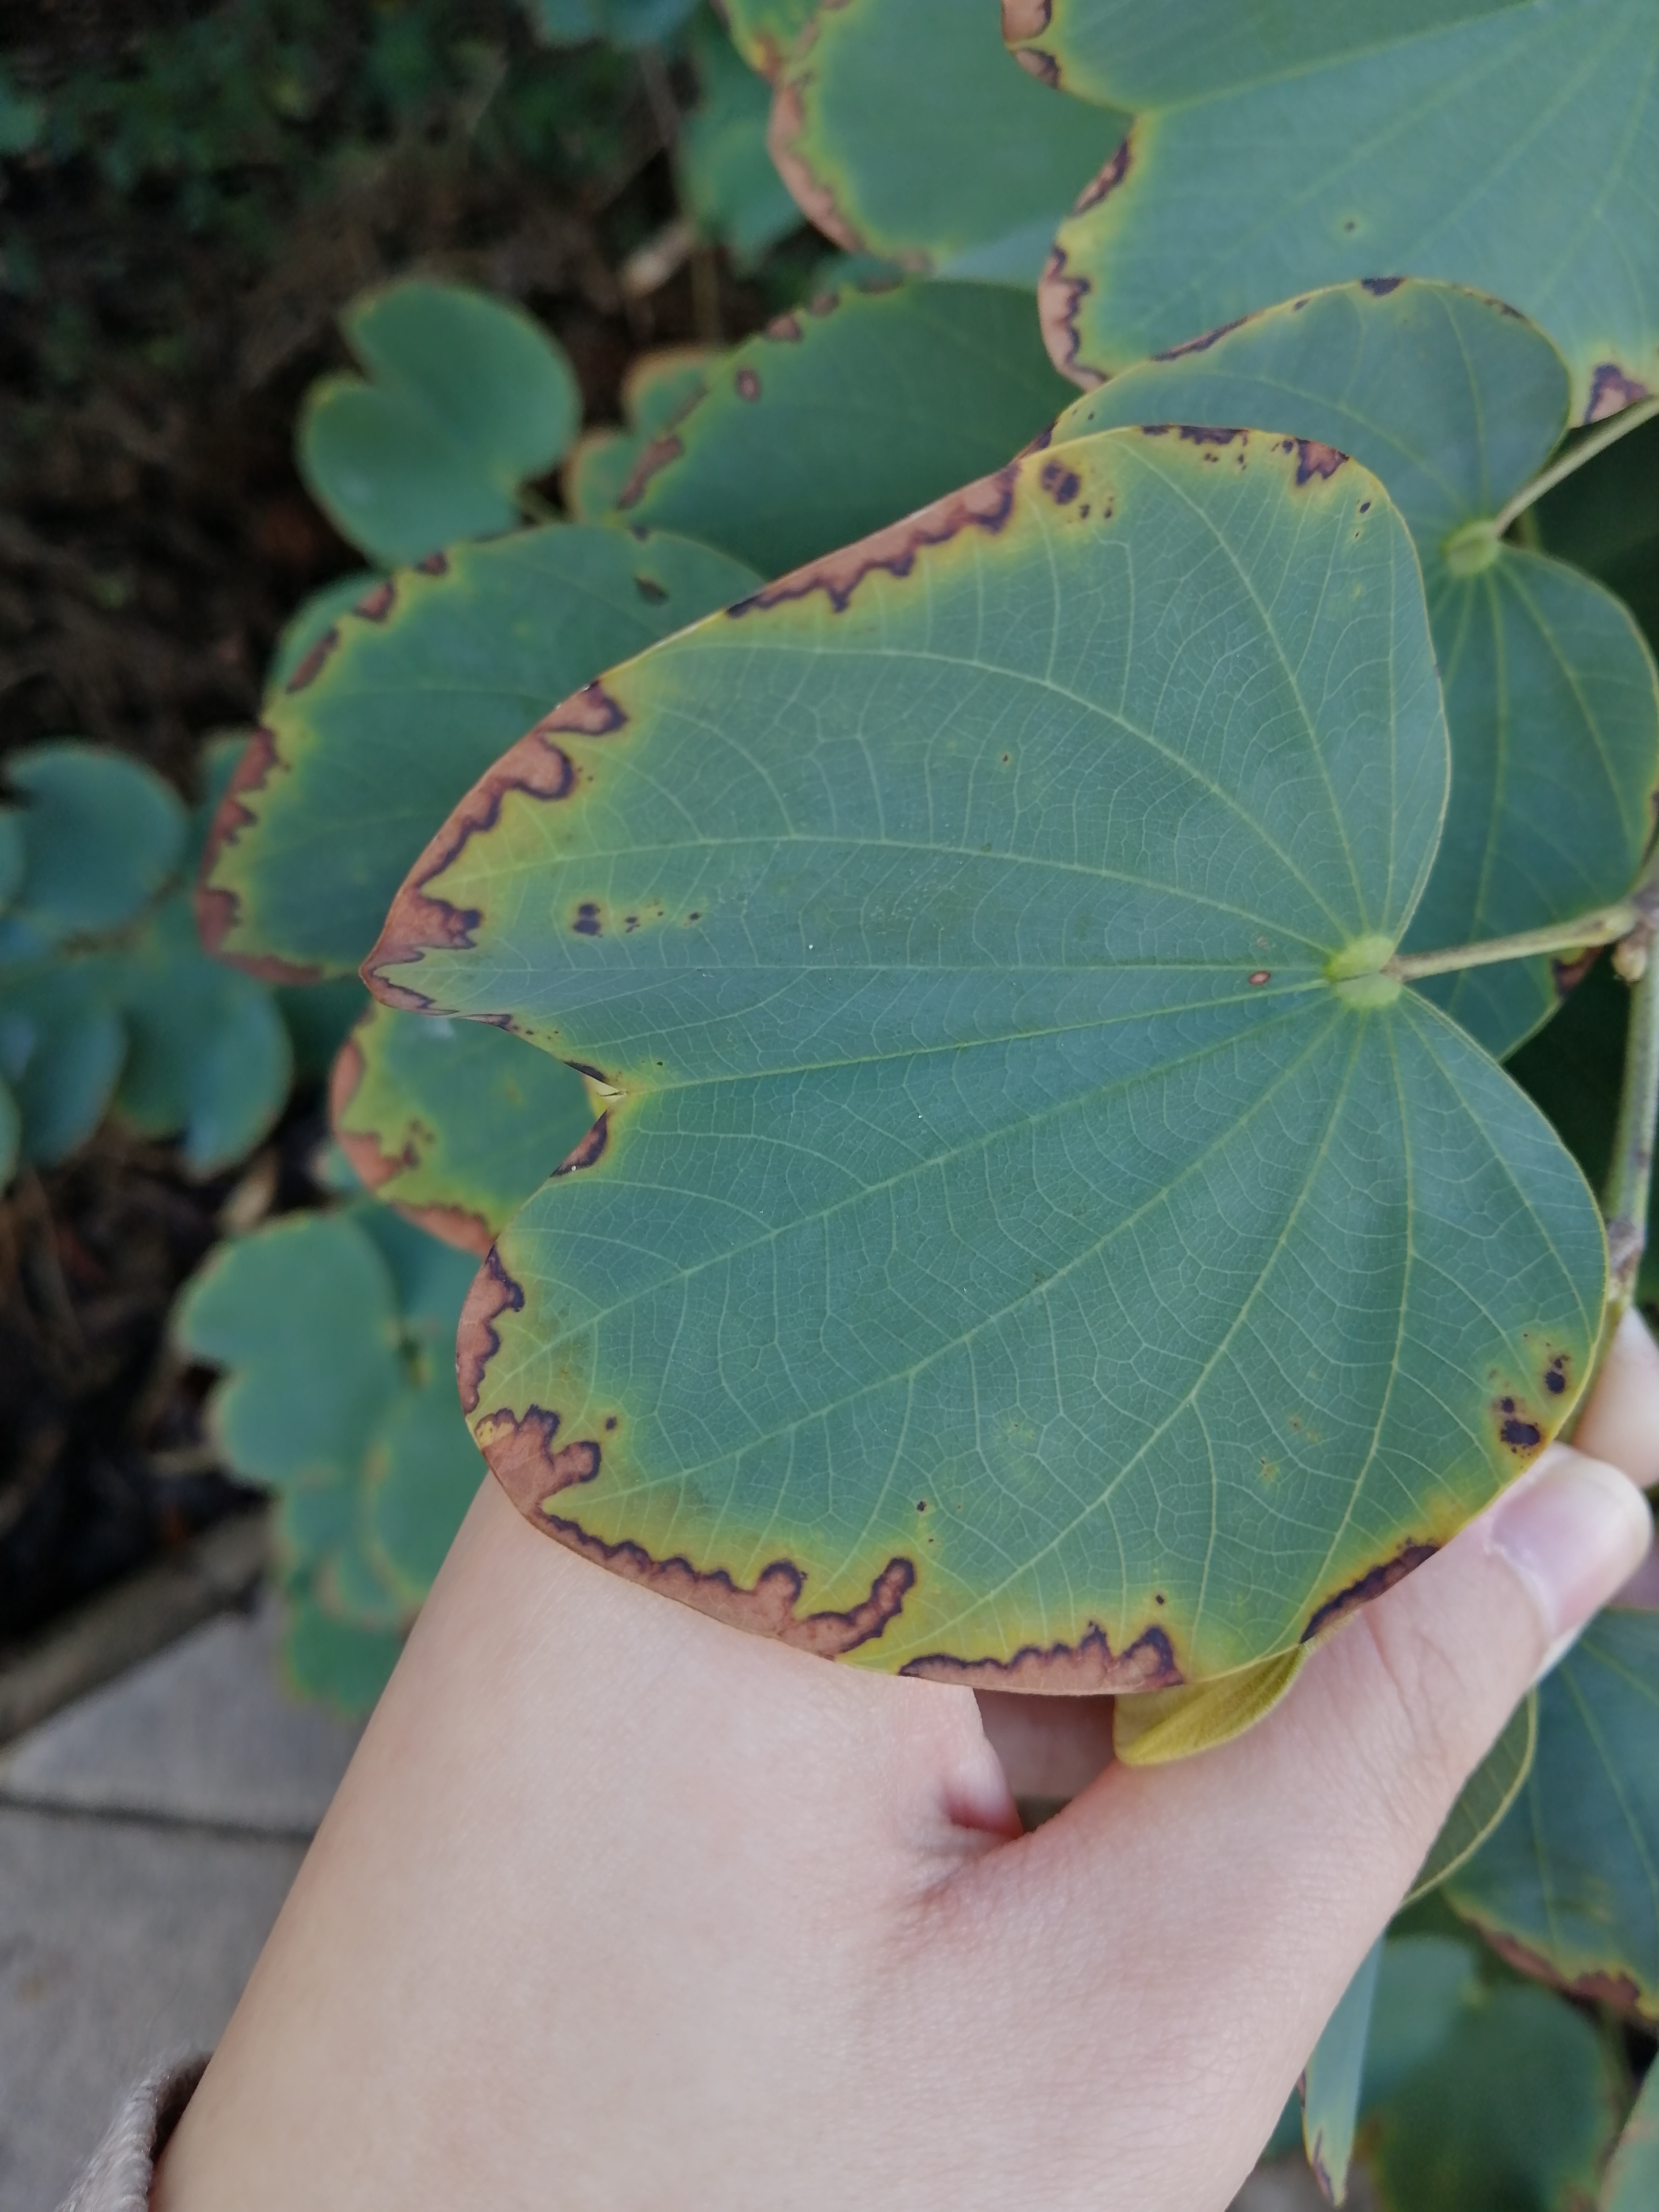nothealthy: (362, 350, 1577, 1580), (199, 455, 828, 1024), (1006, 2, 1650, 469), (695, 23, 1201, 320), (561, 289, 1051, 526)
